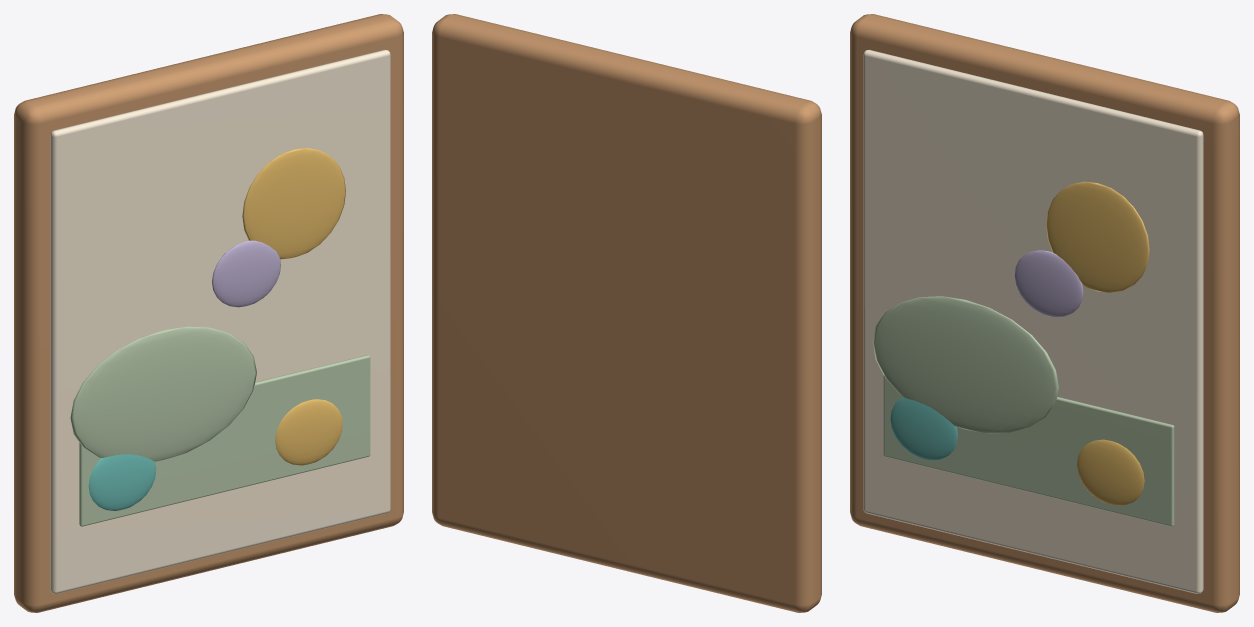
File: japaneseCanvas.glb
3 views of the same model, side by side, from view 1: azimuth 30°, elevation 25°; view 2: azimuth 150°, elevation 25°; view 3: azimuth 330°, elevation 25° (orthographic).
Visible parts, largest first — view 1: Paper, Frame, Landscape hill, Landscape, Illustrated sun, Abstract motif.002, Abstract motif.003, Abstract motif; view 2: Frame; view 3: Paper, Frame, Landscape hill, Landscape, Illustrated sun, Abstract motif.002, Abstract motif.003, Abstract motif.
Boxes of the visible parts, x1,y1,x2,y2 form: Paper: (50,49,390,593); Frame: (14,14,403,612); Landscape hill: (70,326,256,461); Landscape: (79,355,370,526); Illustrated sun: (242,148,345,259); Abstract motif.002: (212,240,280,307); Abstract motif.003: (275,399,342,465); Abstract motif: (88,454,156,510); Frame: (432,14,821,612); Paper: (863,49,1203,593); Frame: (850,14,1239,612); Landscape hill: (872,296,1058,433); Landscape: (883,375,1174,526); Illustrated sun: (1046,181,1149,292); Abstract motif.002: (1014,250,1083,317); Abstract motif.003: (1077,439,1144,505); Abstract motif: (890,397,957,460).
Bounding box in the file's own units: 1.1 × 1.4 × 0.15.
